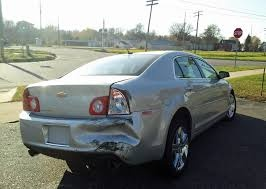Broken-glass: (107, 88, 131, 116)
Dent: (70, 119, 144, 150)
Scratch: (95, 140, 132, 155)
